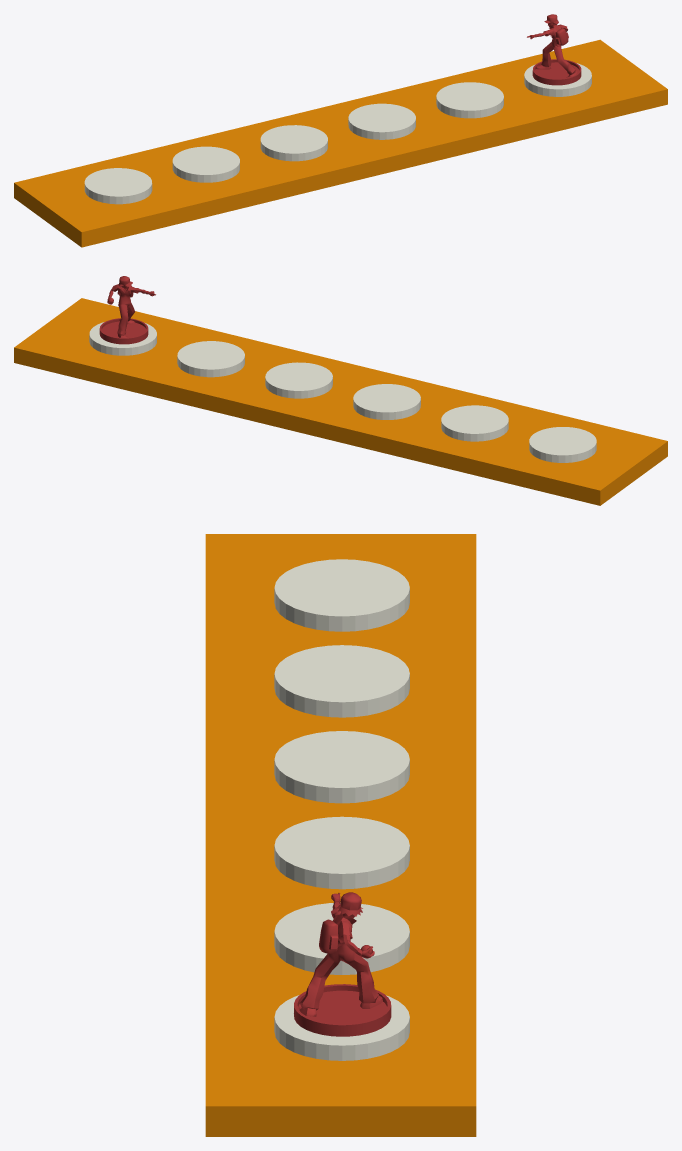
Rendered from sugoroku.gltf.
The picture shows the model from 3 angles, top to bottom: view 1: azimuth 30°, elevation 25°; view 2: azimuth 150°, elevation 25°; view 3: azimuth 270°, elevation 25°; orthographic projection. The views are drawn at different scales.
Parts seen in each view (by area): view 1: Board, Panel-6, Panel-2, Panel-4, Panel-3, Panel-5, Mesh_0, Panel-1; view 2: Board, Panel-5, Panel-3, Panel-2, Panel-4, Panel-6, Mesh_0, Panel-1; view 3: Board, Panel-6, Panel-5, Panel-4, Panel-3, Mesh_0, Panel-2, Panel-1.
Part boxes in pixels (<box>): Board: <box>14,39,667,247</box>; Panel-6: <box>84,168,152,204</box>; Panel-2: <box>436,82,503,118</box>; Panel-4: <box>260,125,327,161</box>; Panel-3: <box>348,103,415,139</box>; Panel-5: <box>172,146,239,182</box>; Mesh_0: <box>527,14,581,85</box>; Panel-1: <box>524,63,591,96</box>; Board: <box>14,298,667,505</box>; Panel-5: <box>441,405,508,441</box>; Panel-3: <box>265,362,332,398</box>; Panel-2: <box>177,341,244,377</box>; Panel-4: <box>353,384,420,419</box>; Panel-6: <box>529,427,596,462</box>; Mesh_0: <box>99,276,155,344</box>; Panel-1: <box>89,322,156,355</box>; Board: <box>205,534,476,1136</box>; Panel-6: <box>274,559,409,631</box>; Panel-5: <box>274,645,409,717</box>; Panel-4: <box>274,731,409,803</box>; Panel-3: <box>274,816,409,889</box>; Mesh_0: <box>294,892,391,1036</box>; Panel-2: <box>274,903,409,974</box>; Panel-1: <box>274,995,409,1060</box>.
Bounding box in the file's own units: 20 × 2.69 × 4.
